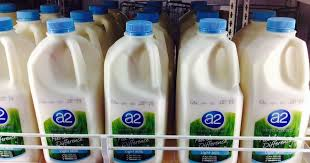milk: (178, 23, 242, 162), (29, 22, 108, 134), (248, 18, 310, 159), (109, 20, 167, 158), (1, 17, 35, 161), (70, 7, 118, 42), (236, 7, 279, 43), (14, 11, 47, 29), (40, 3, 65, 17)
